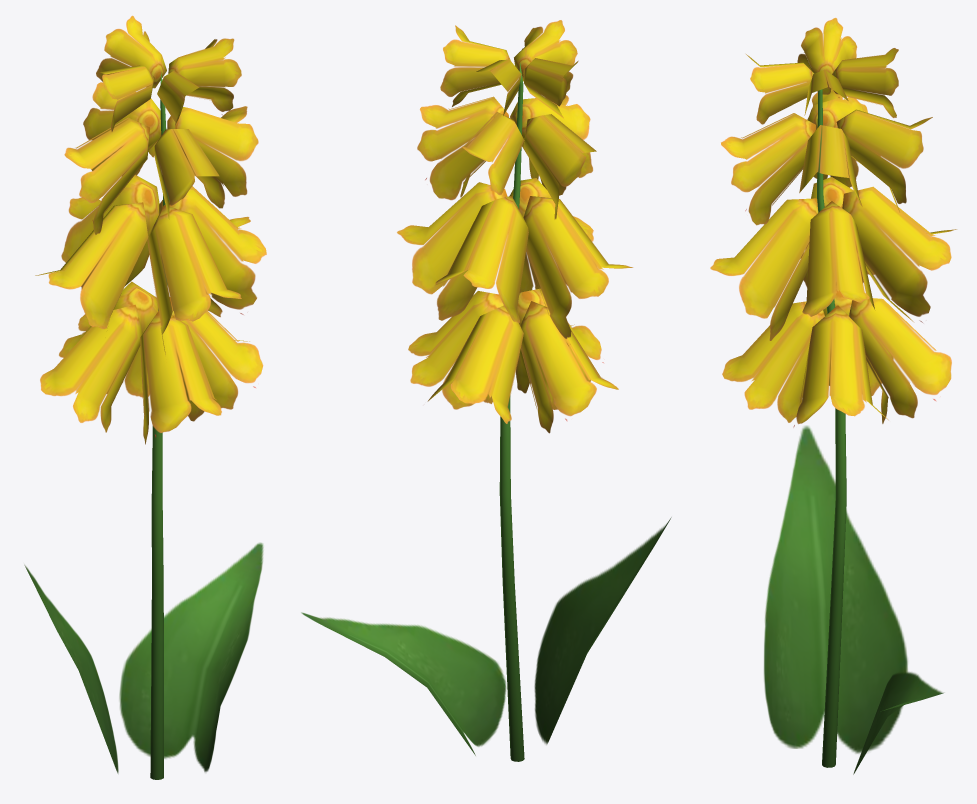
The model's file is n_flower_yellow.glb.
The picture shows the model from 3 angles, left to right: view 1: azimuth 30°, elevation 25°; view 2: azimuth 150°, elevation 25°; view 3: azimuth 270°, elevation 25°; orthographic projection.
Visible parts, largest first — view 1: Flower_4_Single; view 2: Flower_4_Single; view 3: Flower_4_Single.
Part boxes in pixels (box(x1,y1,x2,y2)): Flower_4_Single: box(24, 15, 266, 779); Flower_4_Single: box(301, 20, 671, 761); Flower_4_Single: box(710, 18, 956, 774).
Bounding box in the file's own units: 1.07 × 2.42 × 0.7729.
2 materials, 2 textured.
